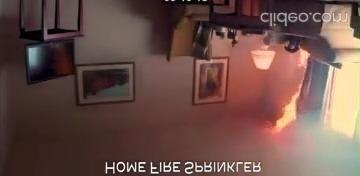fire: (254, 70, 326, 139)
